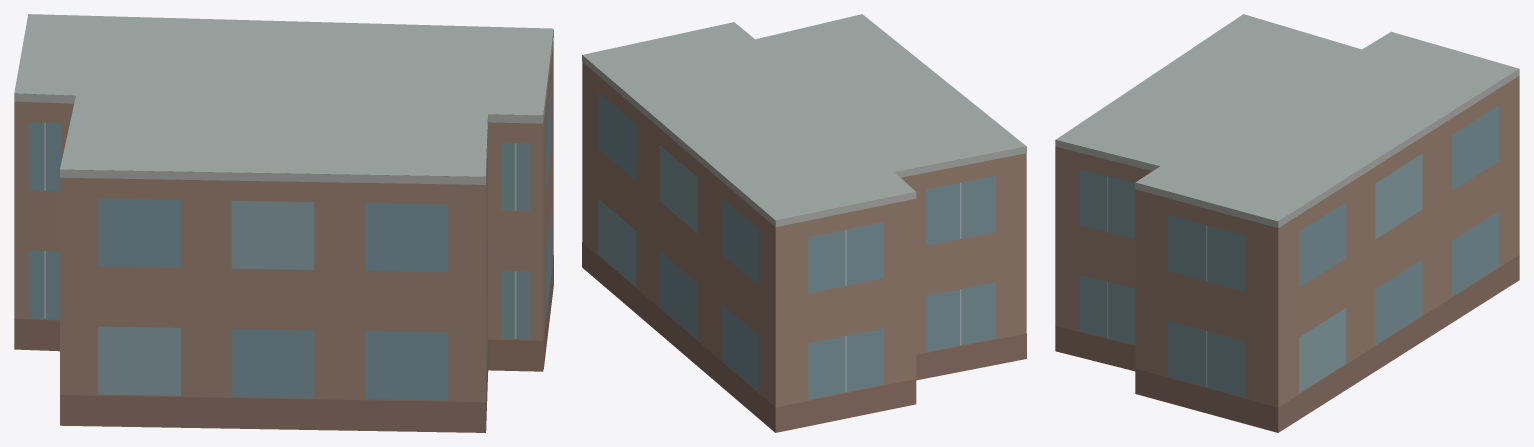
File: survey-upis-33042941.glb
3 views of the same model, side by side, from view 1: azimuth 30°, elevation 25°; view 2: azimuth 150°, elevation 25°; view 3: azimuth 270°, elevation 25° (orthographic). The views are drawn at different scales.
Parts seen in each view (by area): view 1: survey-upis-33042941.tmp; view 2: survey-upis-33042941.tmp; view 3: survey-upis-33042941.tmp.
Boxes of the visible parts, x1,y1,x2,y2 form: survey-upis-33042941.tmp: (14,14,553,432); survey-upis-33042941.tmp: (582,14,1026,432); survey-upis-33042941.tmp: (1055,14,1519,432).
Size of the model in its own units: 16 by 7.6 by 15.13.
